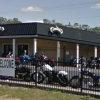Motorcycle: (34, 56, 74, 90)
